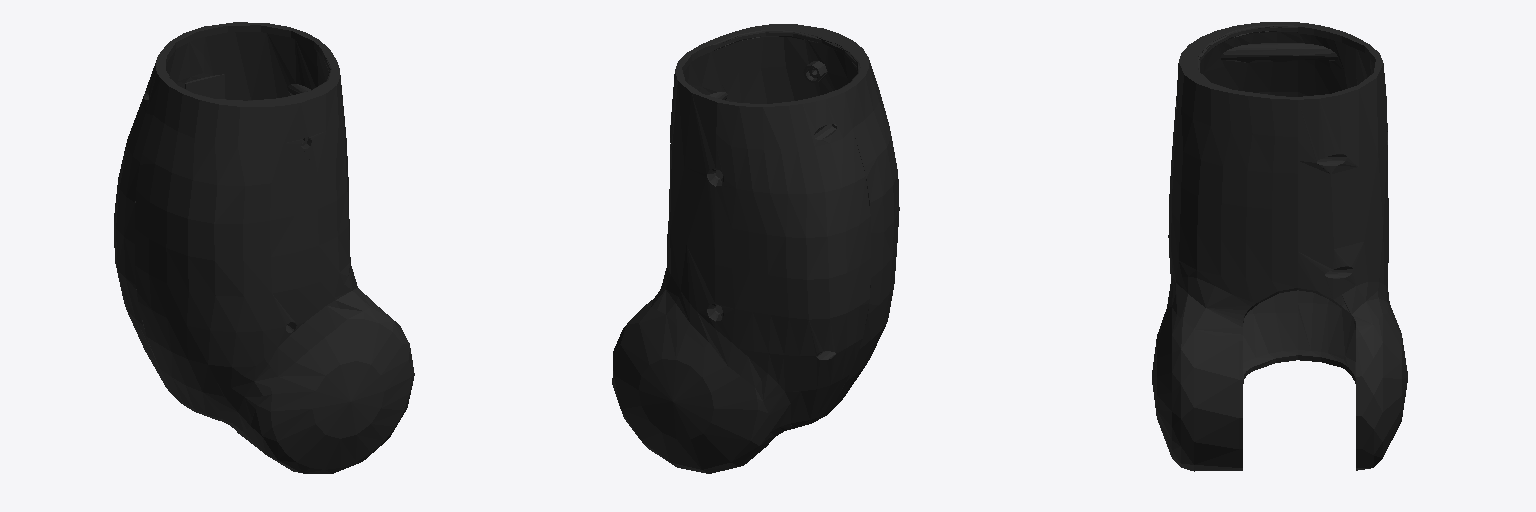
Rendered from asm0001_vrml_22_prt.obj.
3 renders of one model, left to right at view 1: azimuth 30°, elevation 25°; view 2: azimuth 150°, elevation 25°; view 3: azimuth 270°, elevation 25°, orthographic.
Visible parts, largest first — view 1: ShapeIndexedFaceSet.001_ShapeIndexedFaceSet, ShapeIndexedFaceSet_ShapeIndexedFaceSet.066; view 2: ShapeIndexedFaceSet_ShapeIndexedFaceSet.066, ShapeIndexedFaceSet.001_ShapeIndexedFaceSet; view 3: ShapeIndexedFaceSet.001_ShapeIndexedFaceSet, ShapeIndexedFaceSet_ShapeIndexedFaceSet.066.
Boxes of the visible parts, <box> form: ShapeIndexedFaceSet.001_ShapeIndexedFaceSet: <box>135,40,414,473</box>; ShapeIndexedFaceSet_ShapeIndexedFaceSet.066: <box>114,22,318,396</box>; ShapeIndexedFaceSet_ShapeIndexedFaceSet.066: <box>612,53,870,473</box>; ShapeIndexedFaceSet.001_ShapeIndexedFaceSet: <box>687,24,899,412</box>; ShapeIndexedFaceSet.001_ShapeIndexedFaceSet: <box>1152,22,1297,471</box>; ShapeIndexedFaceSet_ShapeIndexedFaceSet.066: <box>1298,22,1407,470</box>.
Bounding box in the file's own units: 2.66 × 4.33 × 2.63.